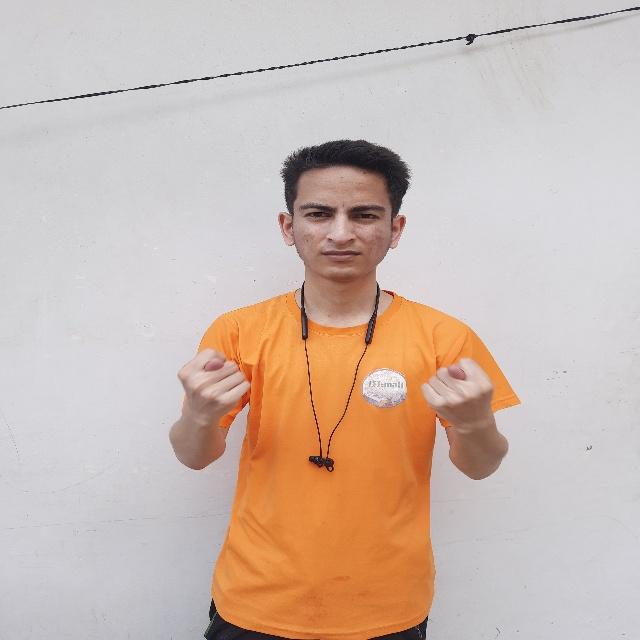Dulya: (165, 332, 259, 438), (412, 347, 503, 439)
